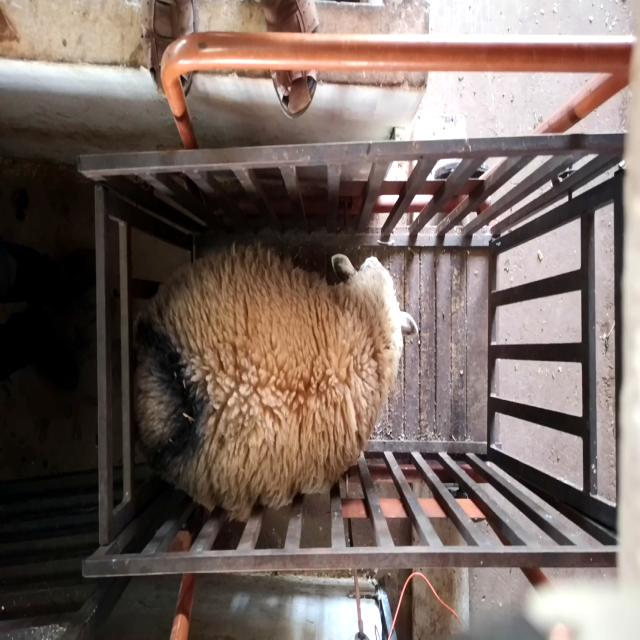sheep: (135, 244, 419, 522)
